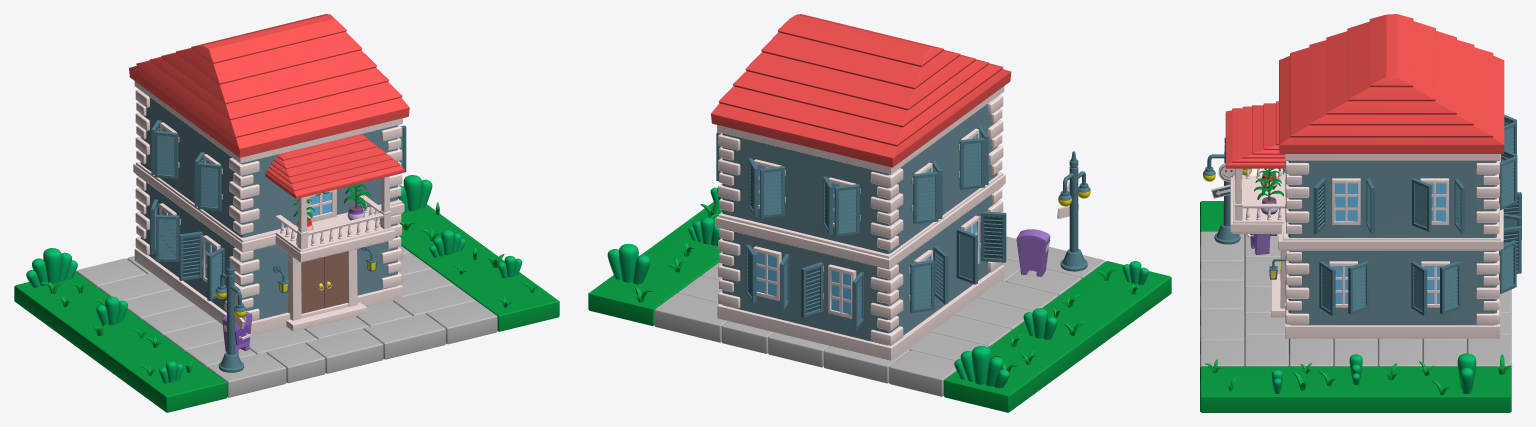
Rendered from City_Island_5.glb.
3 renders of one model, left to right at view 1: azimuth 30°, elevation 25°; view 2: azimuth 150°, elevation 25°; view 3: azimuth 270°, elevation 25°, orthographic. The views are drawn at different scales.
Parts seen in each view (by area): view 1: City_5_House_1, City_5_Base_1, City_5_Base_3, City_5_Base_2, City_5_Street_Lamp_1, City_5_Plant_2, City_5_Plant_1, City_5_Plant_3, City_5_Plant_6, City_5_Mailbox_1, City_5_Plant_7; view 2: City_5_House_1, City_5_Base_1, City_5_Base_3, City_5_Base_2, City_5_Street_Lamp_1, City_5_Plant_2, City_5_Mailbox_1, City_5_Plant_1, City_5_Plant_6, City_5_Plant_3; view 3: City_5_House_1, City_5_Base_1, City_5_Base_2, City_5_Street_Lamp_1, City_5_Base_3, City_5_Plant_1, City_5_Plant_7, City_5_Mailbox_1, City_5_Plant_3.
Boxes of the visible parts, bbox=[...] form: City_5_House_1: bbox=[129, 14, 409, 334]; City_5_Base_1: bbox=[76, 246, 497, 397]; City_5_Base_3: bbox=[14, 271, 227, 412]; City_5_Base_2: bbox=[399, 204, 559, 331]; City_5_Street_Lamp_1: bbox=[215, 259, 246, 372]; City_5_Plant_2: bbox=[26, 248, 77, 287]; City_5_Plant_1: bbox=[398, 175, 432, 212]; City_5_Plant_3: bbox=[429, 230, 465, 257]; City_5_Plant_6: bbox=[96, 296, 127, 326]; City_5_Mailbox_1: bbox=[222, 312, 252, 353]; City_5_Plant_7: bbox=[344, 184, 371, 220]; City_5_House_1: bbox=[711, 14, 1011, 360]; City_5_Base_1: bbox=[654, 236, 1105, 396]; City_5_Base_3: bbox=[943, 261, 1171, 412]; City_5_Base_2: bbox=[588, 202, 722, 325]; City_5_Street_Lamp_1: bbox=[1058, 151, 1090, 271]; City_5_Plant_2: bbox=[954, 346, 1009, 388]; City_5_Mailbox_1: bbox=[1016, 229, 1050, 276]; City_5_Plant_1: bbox=[607, 243, 650, 284]; City_5_Plant_6: bbox=[1023, 308, 1057, 339]; City_5_Plant_3: bbox=[688, 217, 720, 246]; City_5_House_1: bbox=[1225, 14, 1521, 338]; City_5_Base_1: bbox=[1200, 231, 1511, 367]; City_5_Base_2: bbox=[1200, 366, 1511, 412]; City_5_Street_Lamp_1: bbox=[1203, 137, 1251, 244]; City_5_Base_3: bbox=[1200, 201, 1223, 232]; City_5_Plant_1: bbox=[1457, 353, 1476, 393]; City_5_Plant_7: bbox=[1254, 168, 1283, 214]; City_5_Mailbox_1: bbox=[1246, 234, 1270, 254]; City_5_Plant_3: bbox=[1349, 354, 1362, 384].
Bounding box in the file's own units: 15.24 × 9.75 × 10.52.
Materials: 36 (36 with a texture image).
